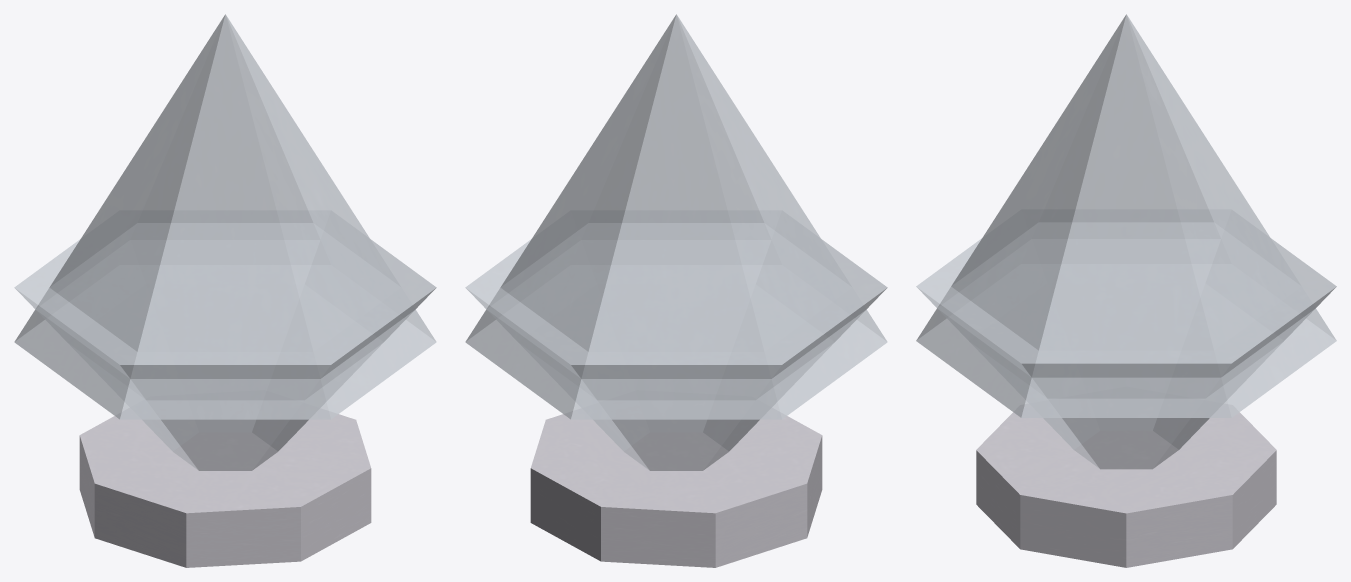
Rendered from choir-ward-crystal.glb.
The picture shows the model from 3 angles, left to right: view 1: azimuth 30°, elevation 25°; view 2: azimuth 150°, elevation 25°; view 3: azimuth 270°, elevation 25°; orthographic projection.
Parts seen in each view (by area): view 1: wardcrystal-facet-top, wardcrystal-facet-bottom, wardcrystal-base; view 2: wardcrystal-facet-top, wardcrystal-facet-bottom, wardcrystal-base; view 3: wardcrystal-facet-top, wardcrystal-facet-bottom, wardcrystal-base.
Part boxes in pixels (bbox=[...]): wardcrystal-facet-top: bbox=[14, 14, 436, 419]; wardcrystal-facet-bottom: bbox=[14, 211, 436, 470]; wardcrystal-base: bbox=[79, 408, 371, 567]; wardcrystal-facet-top: bbox=[465, 14, 887, 419]; wardcrystal-facet-bottom: bbox=[465, 211, 887, 470]; wardcrystal-base: bbox=[530, 408, 822, 567]; wardcrystal-facet-top: bbox=[916, 14, 1336, 417]; wardcrystal-facet-bottom: bbox=[916, 210, 1336, 469]; wardcrystal-base: bbox=[976, 404, 1276, 567].
Size of the model in its own units: 0.2425 by 0.36 by 0.28.
2 materials, 2 textured.
